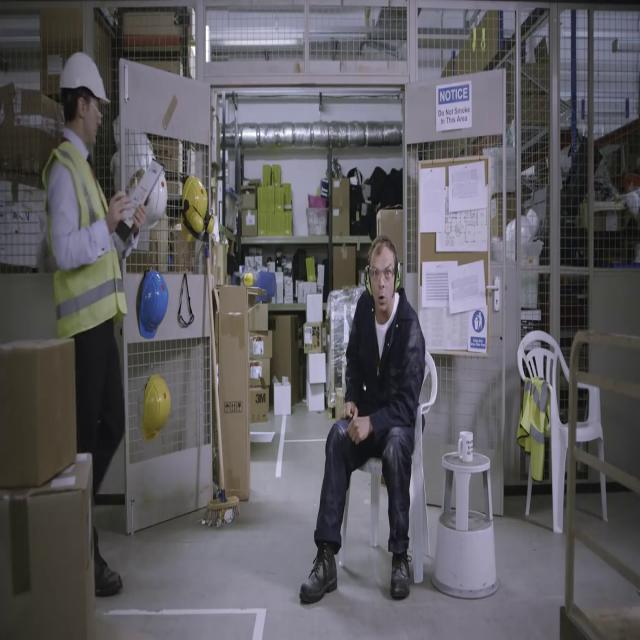earmuff: (362, 264, 374, 297), (395, 260, 405, 294)
glasses: (368, 263, 396, 282)
helmet: (59, 46, 111, 108)
